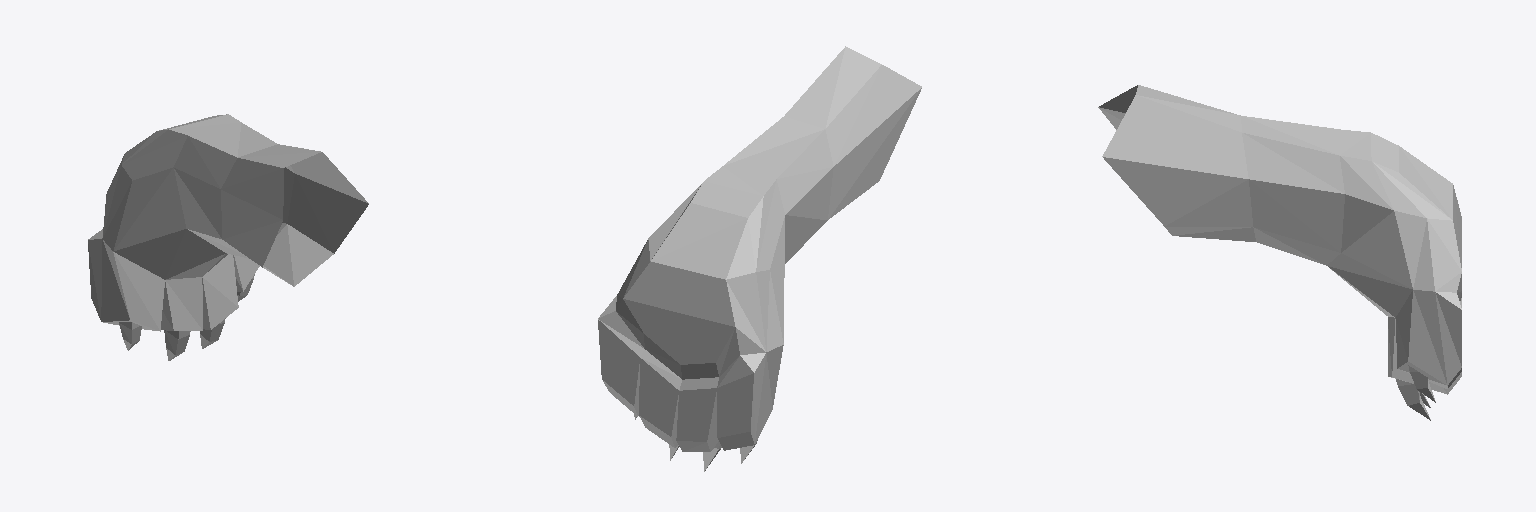
File: patte_ar_g_3.obj
3 renders of one model, left to right at view 1: azimuth 30°, elevation 25°; view 2: azimuth 150°, elevation 25°; view 3: azimuth 270°, elevation 25°, orthographic.
Visible parts, largest first — view 1: patte_ar_g_3_Wolf.009; view 2: patte_ar_g_3_Wolf.009; view 3: patte_ar_g_3_Wolf.009.
Boxes of the visible parts, <box> form: patte_ar_g_3_Wolf.009: <box>88,114,368,360</box>; patte_ar_g_3_Wolf.009: <box>598,46,921,471</box>; patte_ar_g_3_Wolf.009: <box>1098,85,1461,420</box>.
Size of the model in its own units: 8.54 by 16.32 by 17.